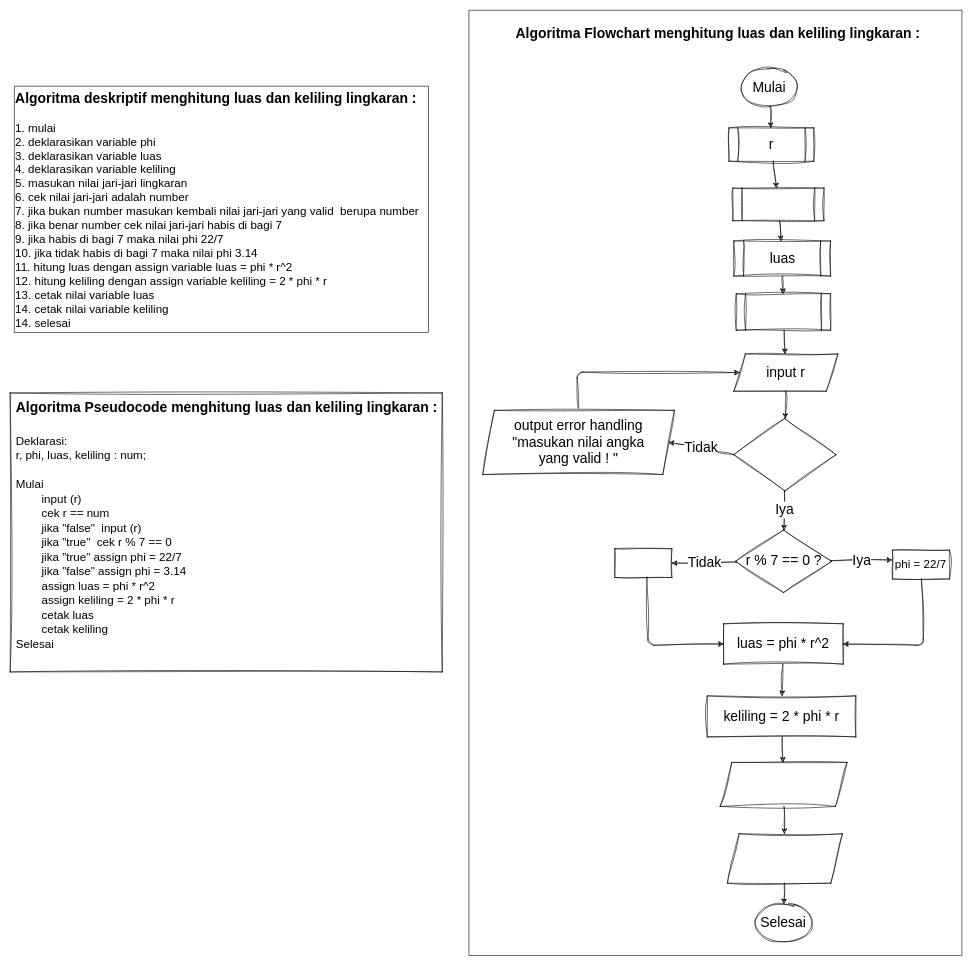
The diagram is 972 pixels wide and 966 high, and some of its shapes have lost their labels. The box of each missing label's shape, as (x1, y1, x2, y2) in pixels:
keliling: (736, 293, 831, 330)
output cetak keliling: (727, 833, 842, 883)
output cetak luas: (720, 762, 847, 806)
phi: (732, 188, 824, 221)
phi = 3.14: (614, 548, 672, 578)
r == num ?: (733, 418, 836, 491)
